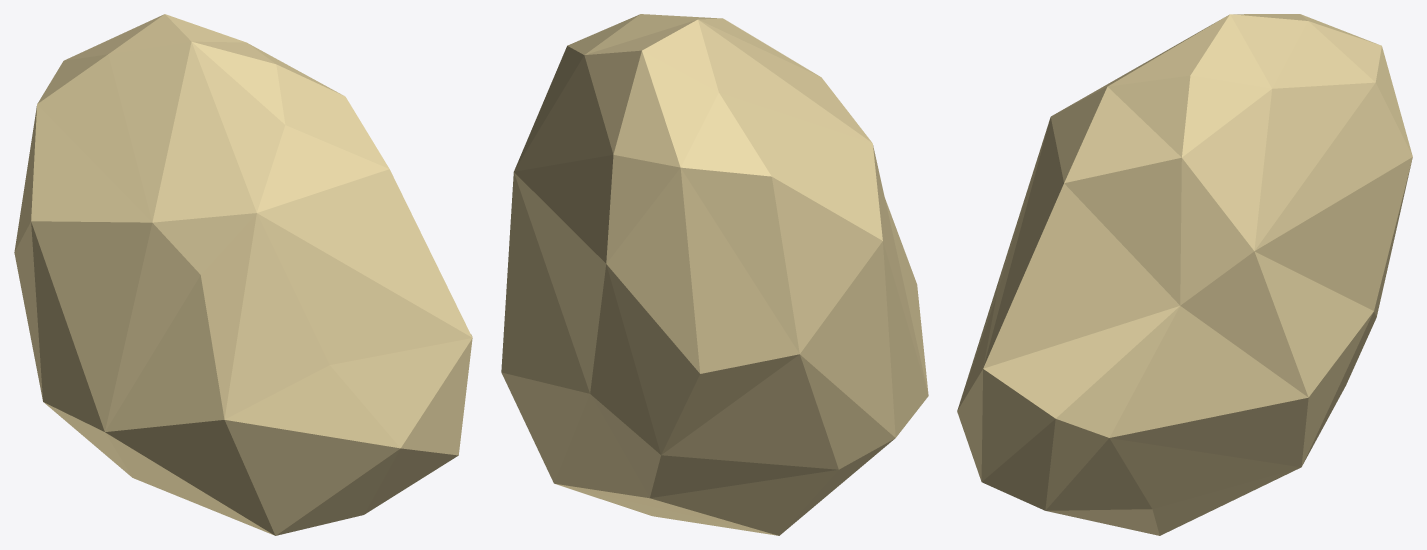
Rendered from Rock (1).fbx.
The picture shows the model from 3 angles, left to right: view 1: azimuth 30°, elevation 25°; view 2: azimuth 150°, elevation 25°; view 3: azimuth 270°, elevation 25°; orthographic projection. The views are drawn at different scales.
Visible parts, largest first — view 1: Asteroid0; view 2: Asteroid0; view 3: Asteroid0.
Boxes of the visible parts, x1=… form: Asteroid0: x1=14, y1=14, x2=472, y2=535; Asteroid0: x1=501, y1=14, x2=928, y2=535; Asteroid0: x1=957, y1=14, x2=1412, y2=535.
Size of the model in its own units: 184 by 224 by 191.
